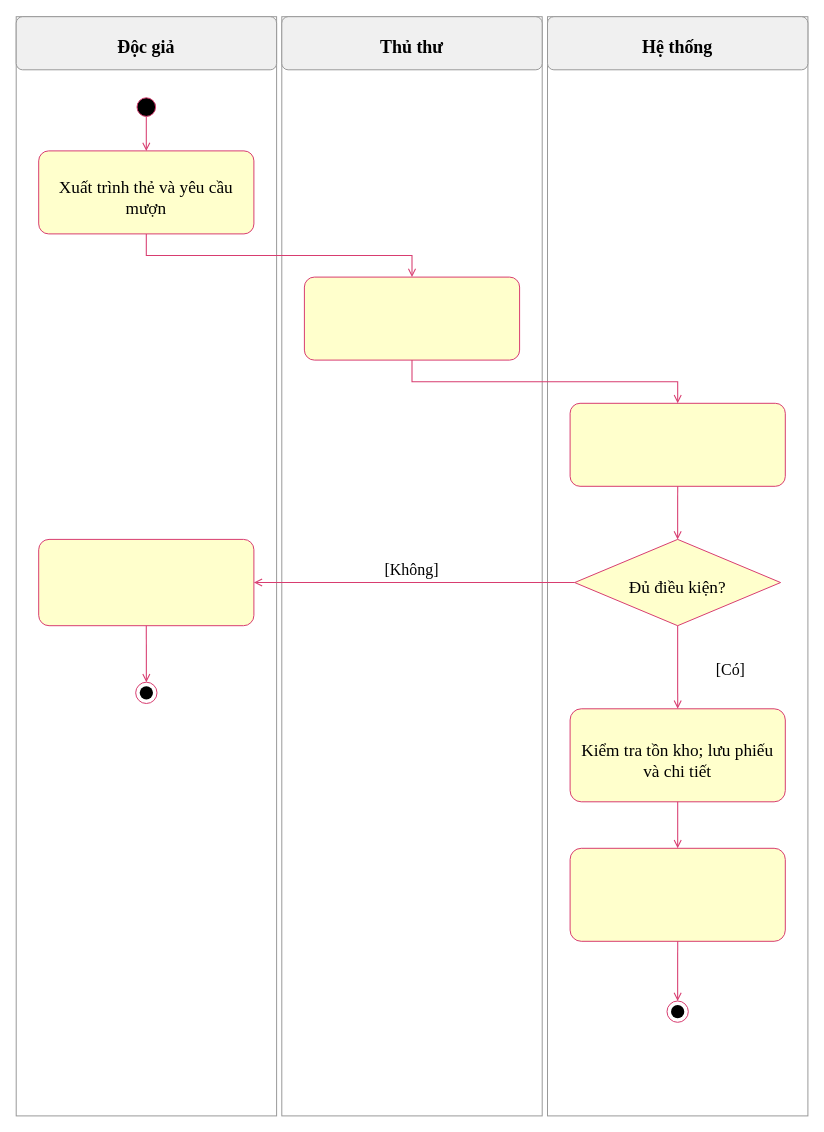
The diagram is 824 pixels wide and 1132 high, and some of its shapes have lost their labels. Here are the shapes that lost their labels. From the top down, the box of each, then its label:
(303, 276, 520, 360): Chọn độc giả, sách và ngày hẹn trả
(569, 402, 785, 486): Kiểm tra thẻ, quá hạn, giới hạn 3 cuốn
(38, 538, 254, 626): Nhận thông báo từ chối
(569, 847, 785, 941): Giảm tồn kho và hoàn tất giao dịch
